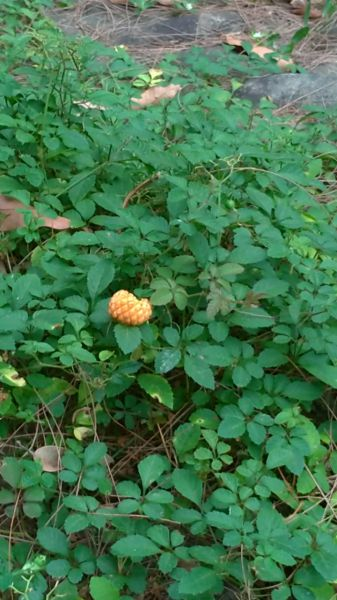eggs: (105, 287, 156, 327)
